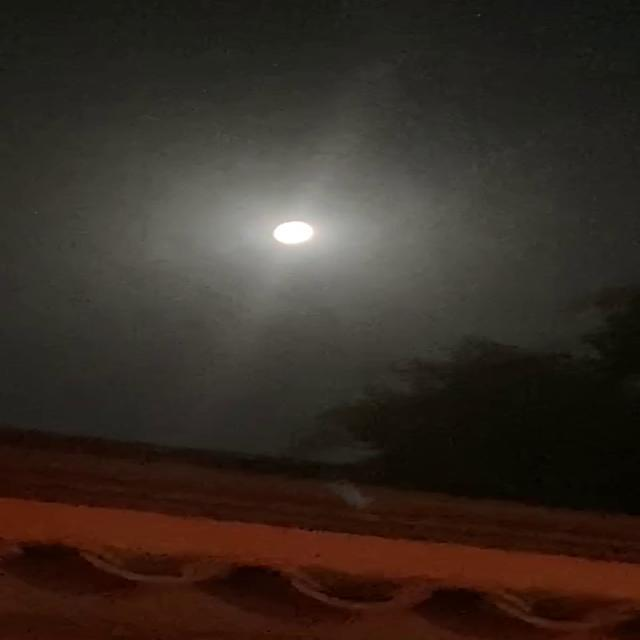moon: (272, 215, 332, 254)
